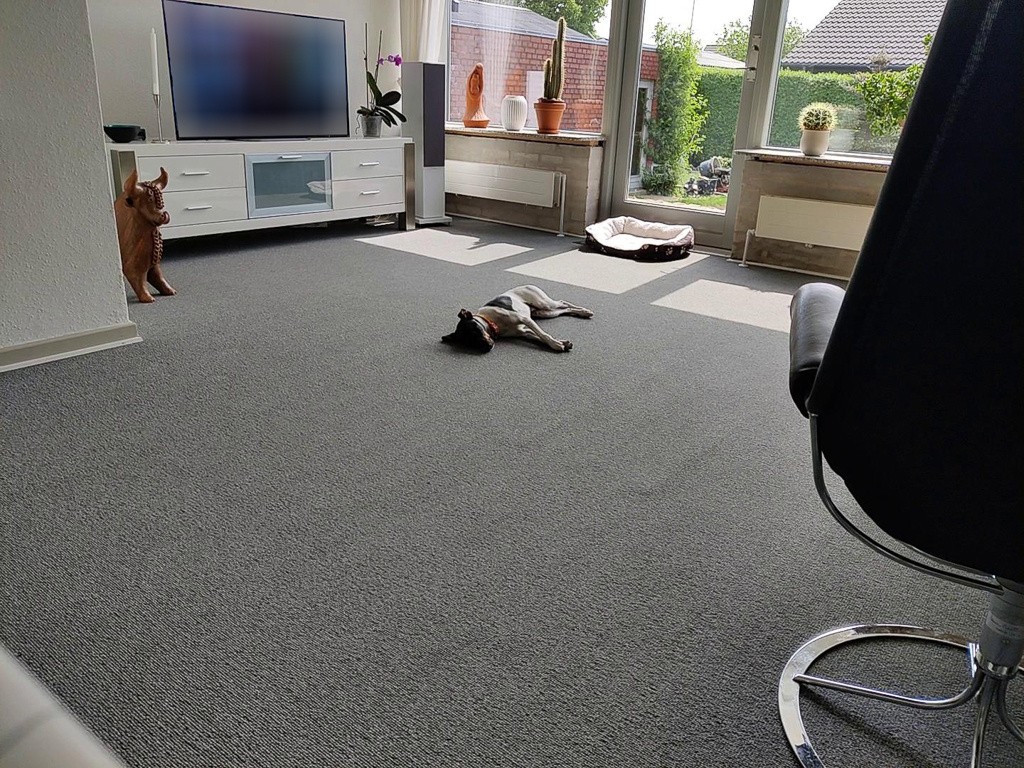Cattle: (102, 163, 186, 312)
Dog: (432, 275, 607, 368)
Humanoid: (458, 61, 494, 120), (679, 174, 703, 198)
